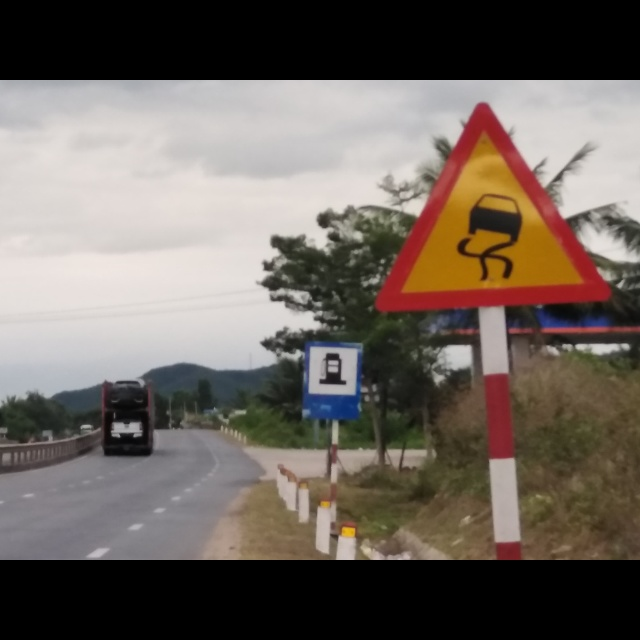Đường trơn trượt: (370, 98, 617, 313)
